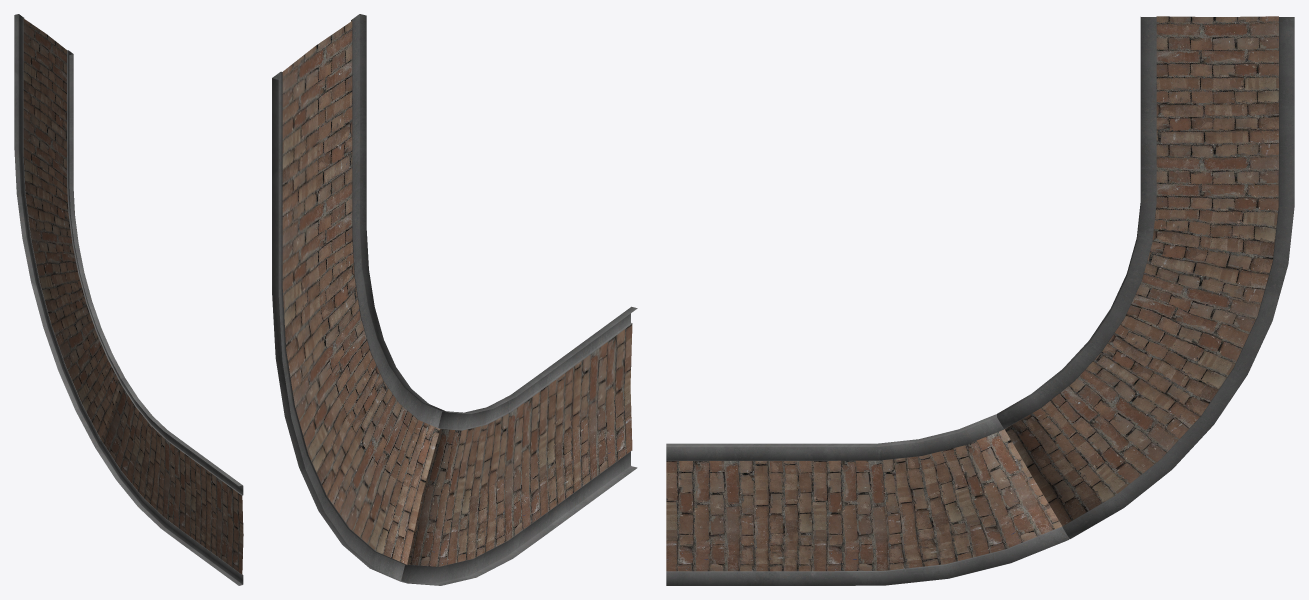
File: cP_Pathway01_Corner.dae
3 views of the same model, side by side, from view 1: azimuth 30°, elevation 25°; view 2: azimuth 150°, elevation 25°; view 3: azimuth 270°, elevation 25° (orthographic). The views are drawn at different scales.
Visible parts, largest first — view 1: cP_Pathway01_Corner.001; view 2: cP_Pathway01_Corner.001; view 3: cP_Pathway01_Corner.001.
Part boxes in pixels (x1,y1,x2,y2): cP_Pathway01_Corner.001: (14,14,243,585); cP_Pathway01_Corner.001: (272,14,637,585); cP_Pathway01_Corner.001: (666,16,1294,585).
Size of the model in its own units: 0.0939 by 7.98 by 7.97.
